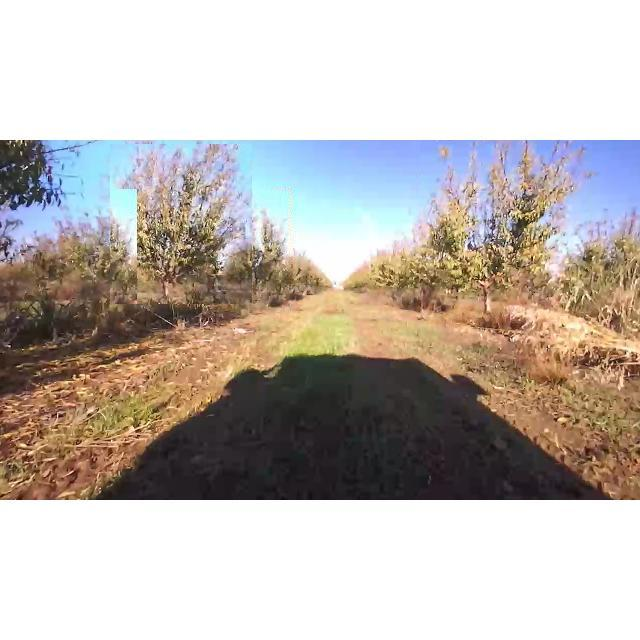direk: (417, 141, 591, 319), (110, 144, 252, 304), (225, 189, 291, 309), (386, 222, 468, 312)
